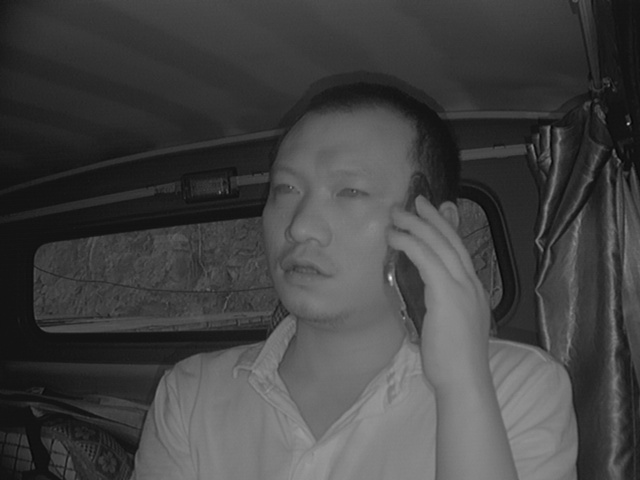hand: (382, 202, 500, 371)
